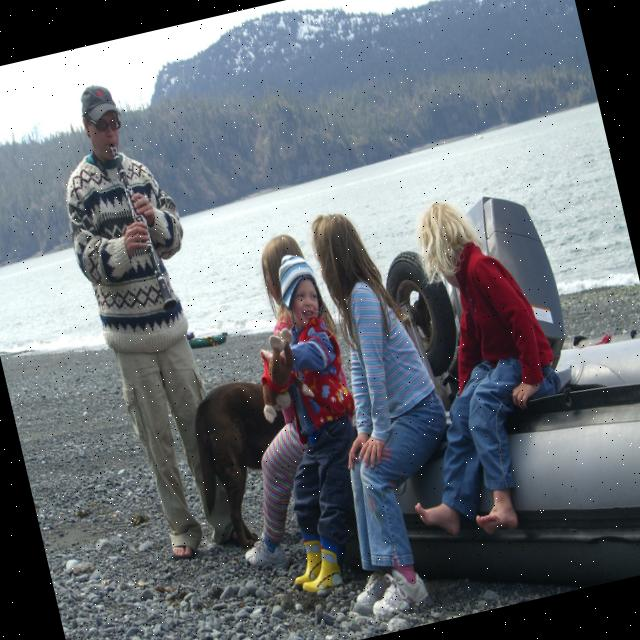clarinet: (110, 138, 179, 320)
